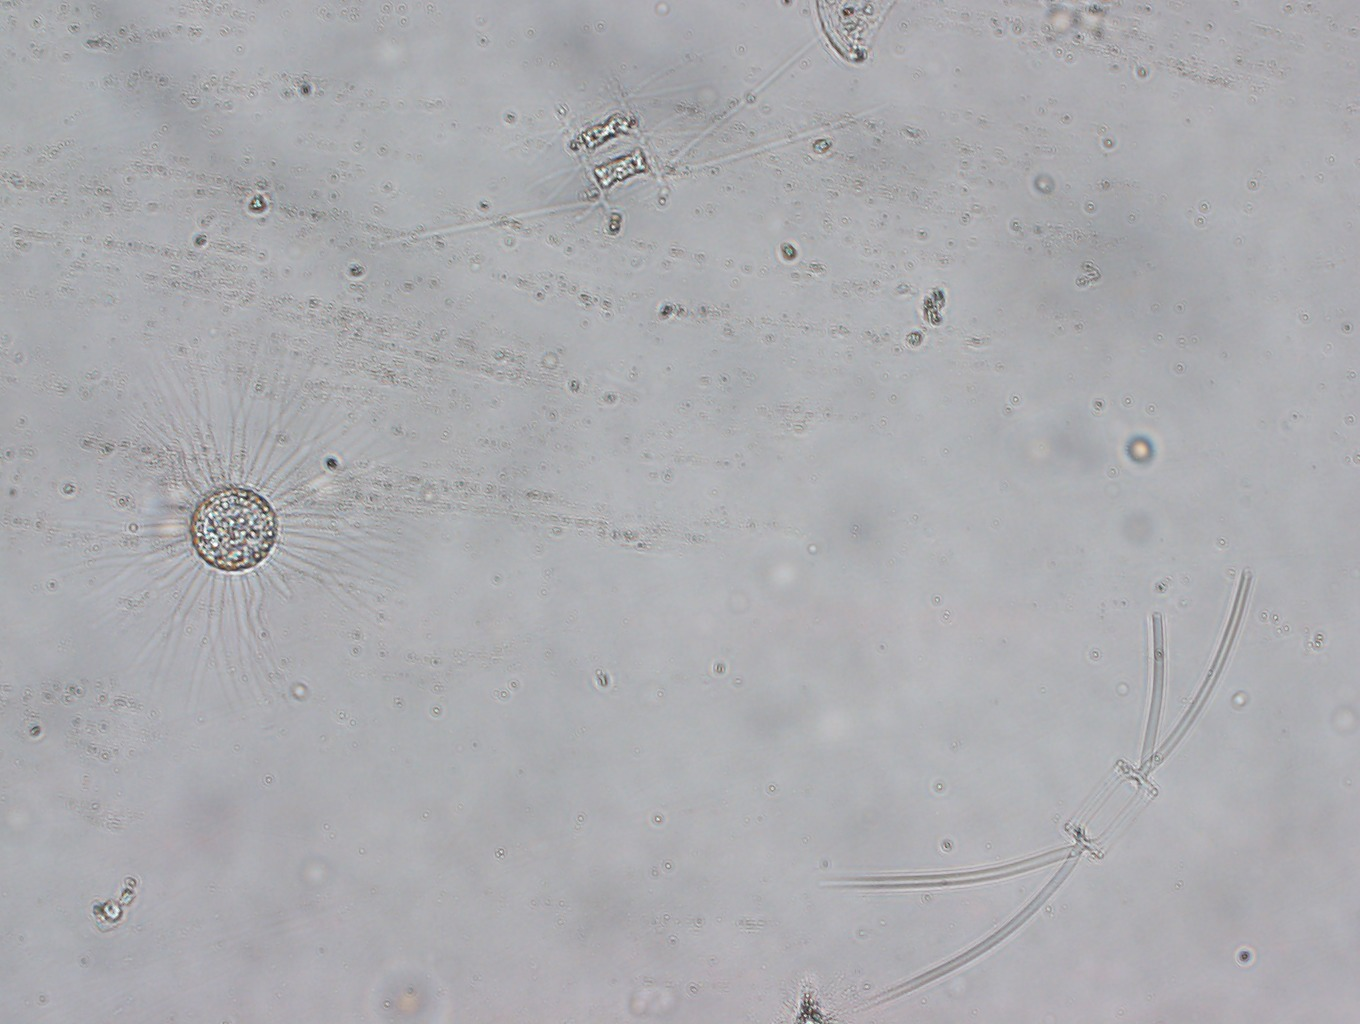bacteriastrum: (58, 324, 425, 728)
chaetoceros: (845, 572, 1249, 1012), (352, 56, 890, 248)
